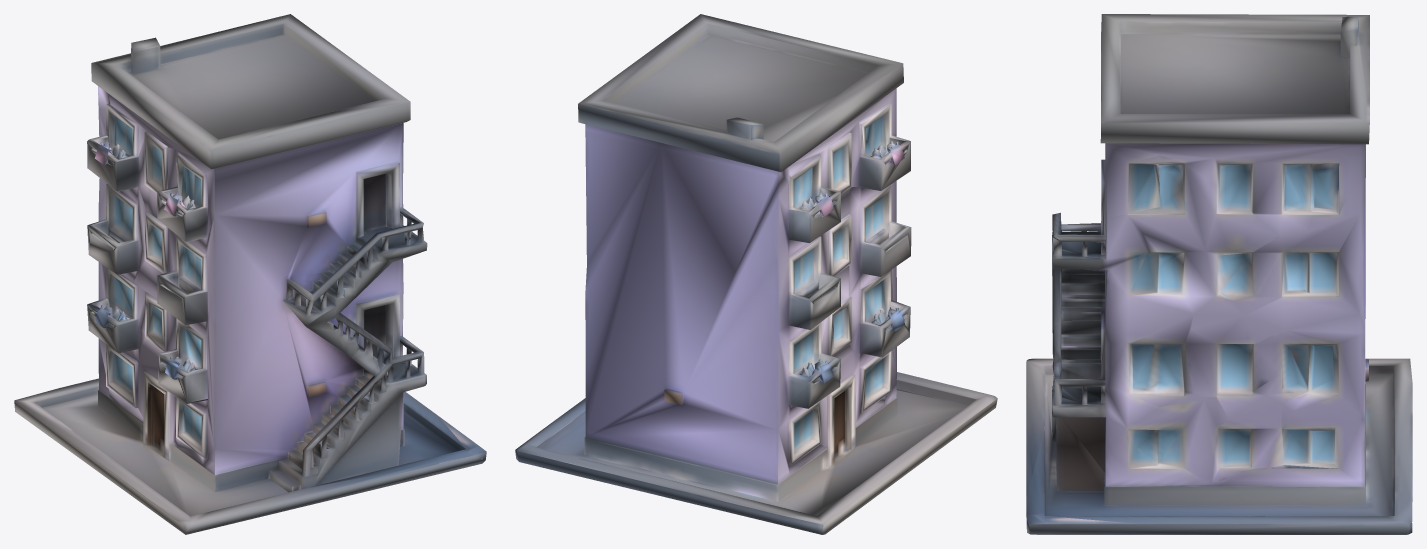
The model's file is toplukonut.glb.
3 views of the same model, side by side, from view 1: azimuth 30°, elevation 25°; view 2: azimuth 150°, elevation 25°; view 3: azimuth 270°, elevation 25° (orthographic). The views are drawn at different scales.
Visible parts, largest first — view 1: node_0; view 2: node_0; view 3: node_0.
Part boxes in pixels (x1,y1,x2,y2): node_0: (14, 14, 486, 534); node_0: (515, 14, 997, 534); node_0: (1026, 14, 1412, 534).
Size of the model in its own units: 0.669 by 0.7634 by 0.6592.
1 material, 1 textured.
